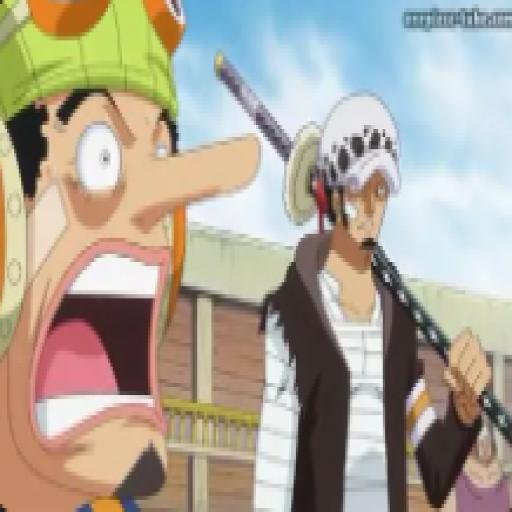Usopp: (0, 0, 272, 512)
